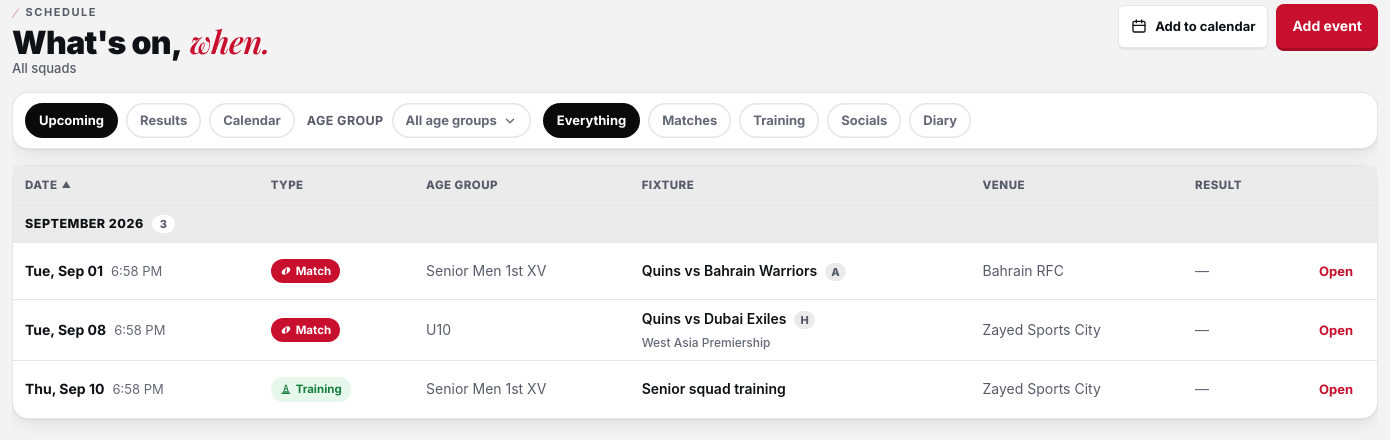
it: Schedule — Upcoming vs Results › keeps a past-dated fixture with no score in Upcoming, not Results
This screenshot has width=1390, height=440.
Check: the text "Quins vs Bahrain Warriors" is shown, box [642, 262, 817, 279]
Click the button "Results": (164, 121) [126, 104, 201, 138]
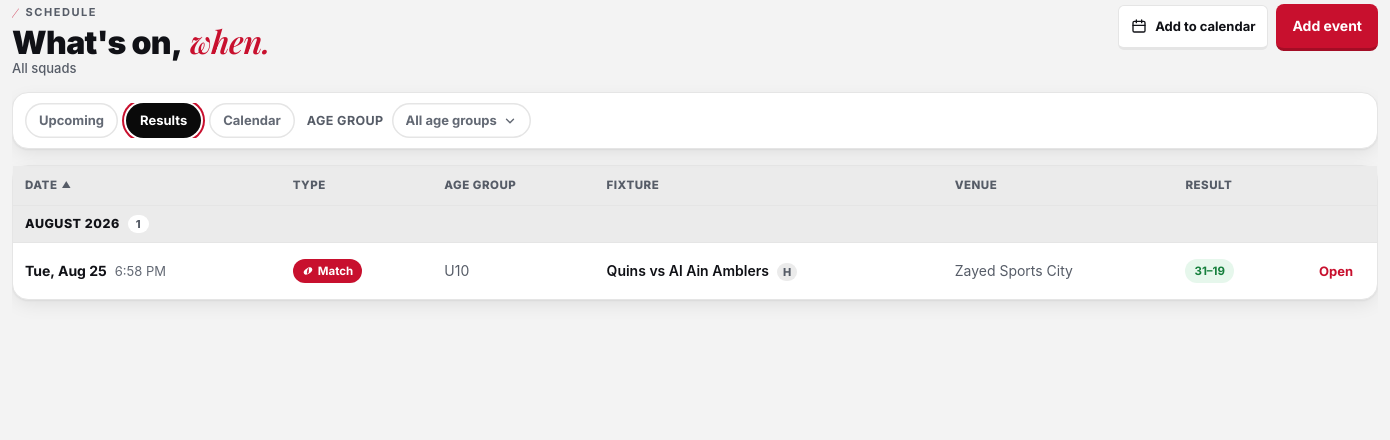
Check: the text "Quins vs Bahrain Warriors" is gone
Check: the text "Quins vs Al Ain Amblers" is shown, box [607, 262, 769, 279]
